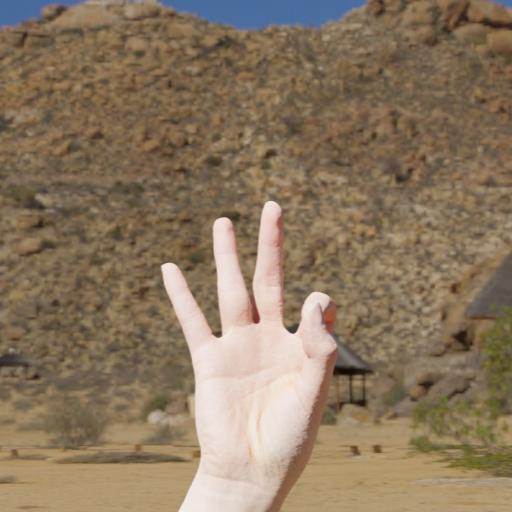F: (154, 198, 346, 490)
